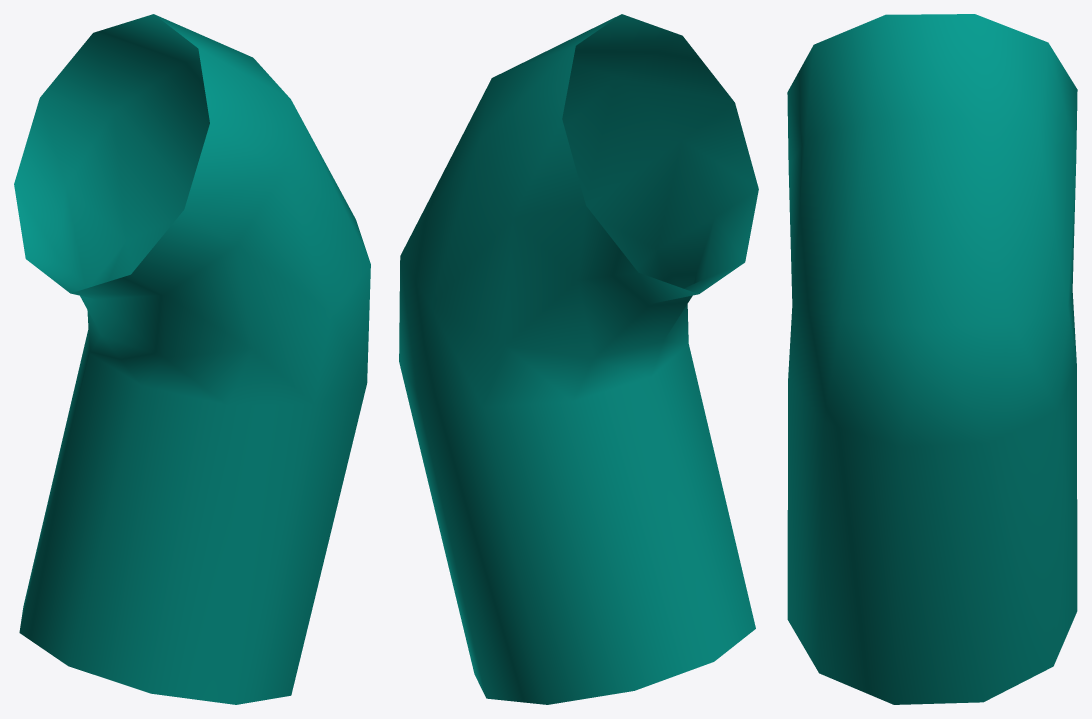
The picture shows the model from 3 angles, left to right: view 1: azimuth 30°, elevation 25°; view 2: azimuth 150°, elevation 25°; view 3: azimuth 270°, elevation 25°; orthographic projection.
Parts seen in each view (by area): view 1: TubeRenderer(Clone); view 2: TubeRenderer(Clone); view 3: TubeRenderer(Clone).
Boxes of the visible parts, x1,y1,x2,y2 form: TubeRenderer(Clone): (14,14,370,704); TubeRenderer(Clone): (399,14,758,704); TubeRenderer(Clone): (787,14,1077,704).
Bounding box in the file's own units: 0.1644 × 0.3258 × 0.1333.
